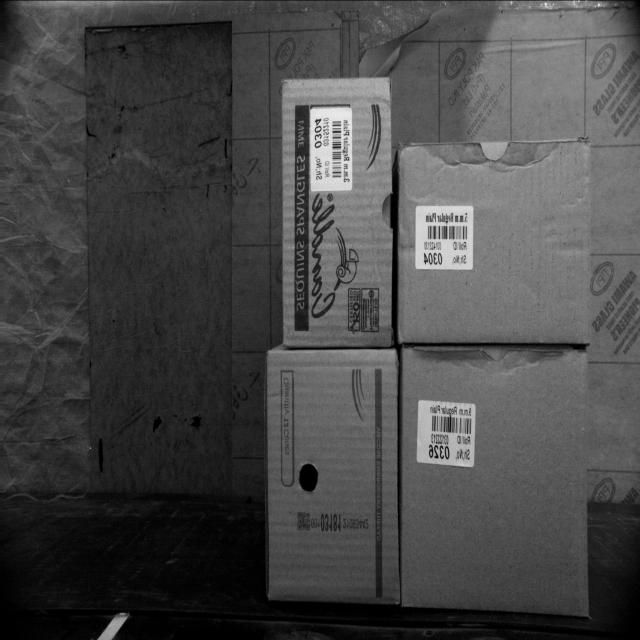cardboxes: (399, 349, 586, 608), (397, 138, 591, 343), (263, 348, 401, 606), (282, 79, 393, 348)
